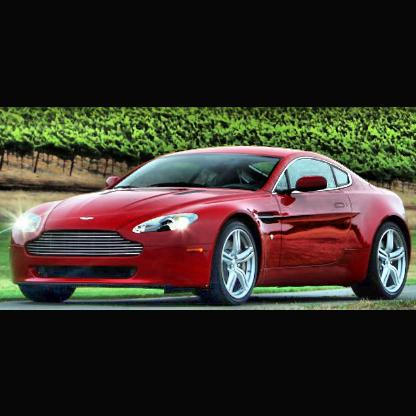Aston Martin V8 Vantage Coupe 2012: (9, 145, 416, 308)
